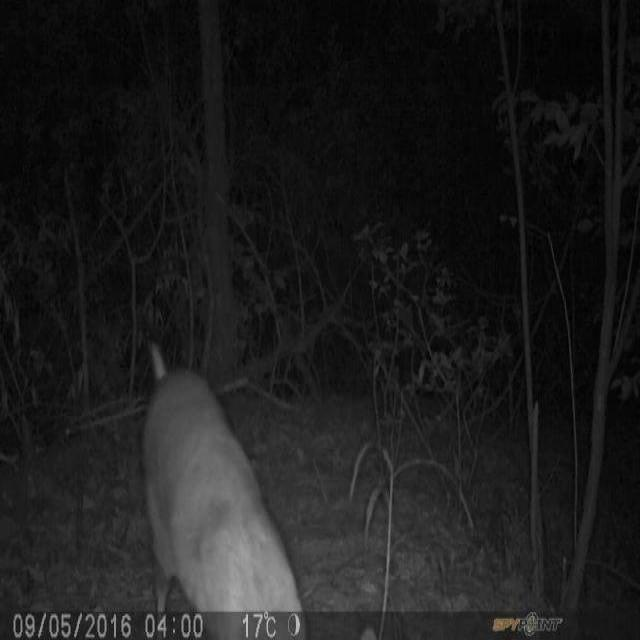deer: (146, 342, 303, 613)
